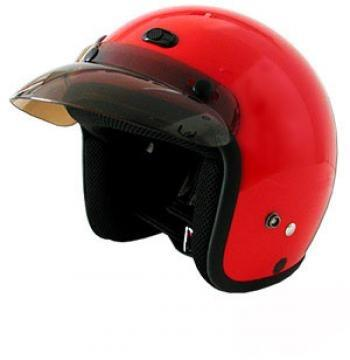helmet: (11, 7, 340, 295)
